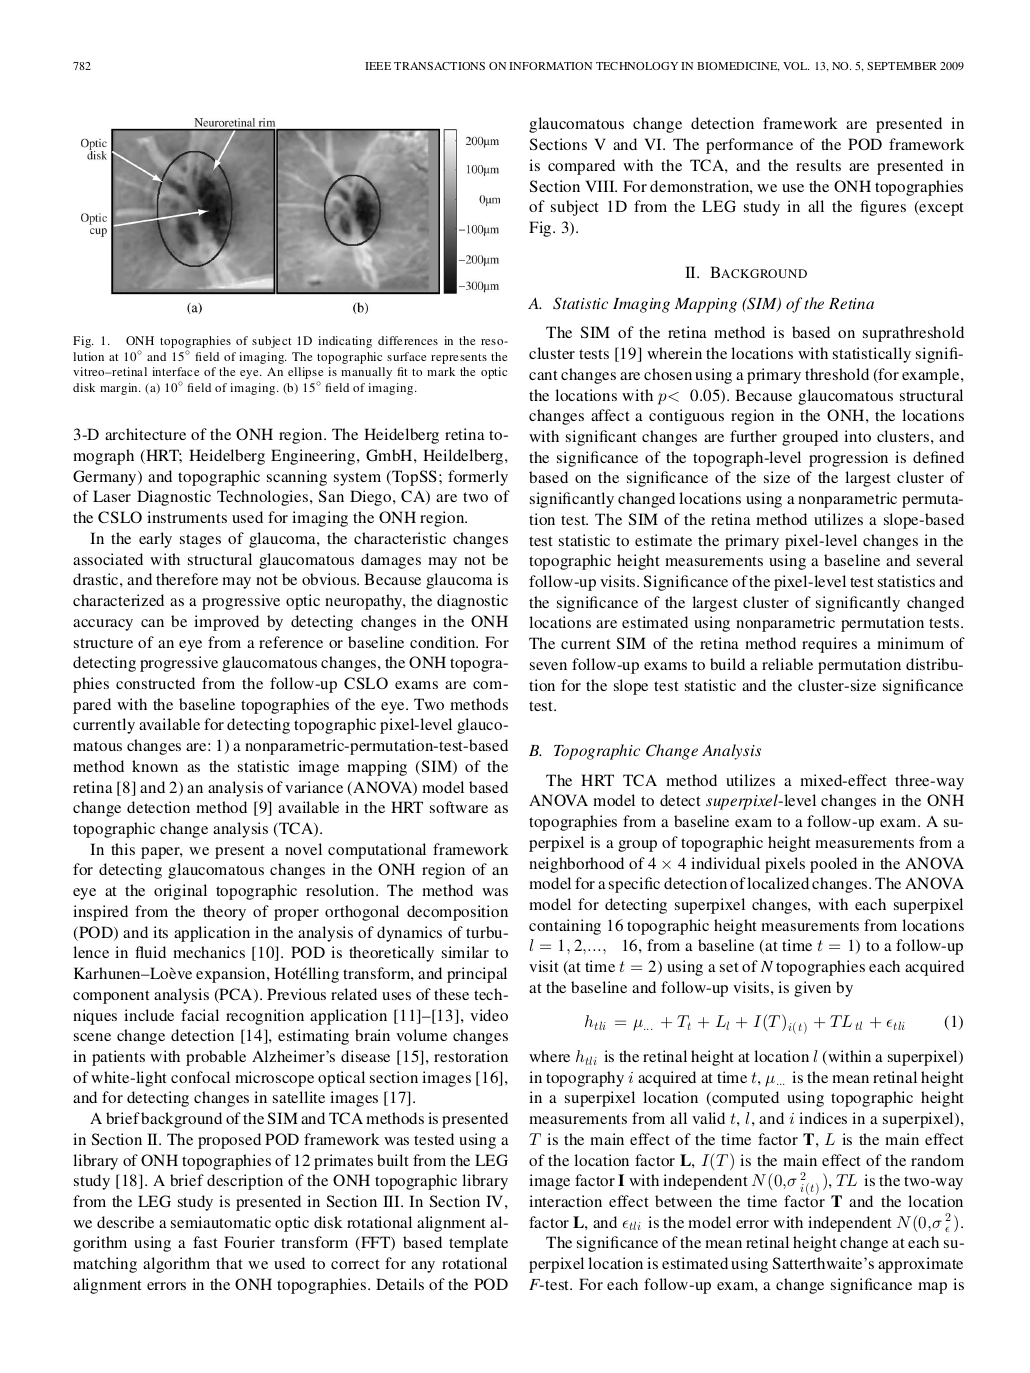figure: (275, 126, 499, 294), (81, 118, 275, 294)
formula: (585, 1013, 962, 1034)
